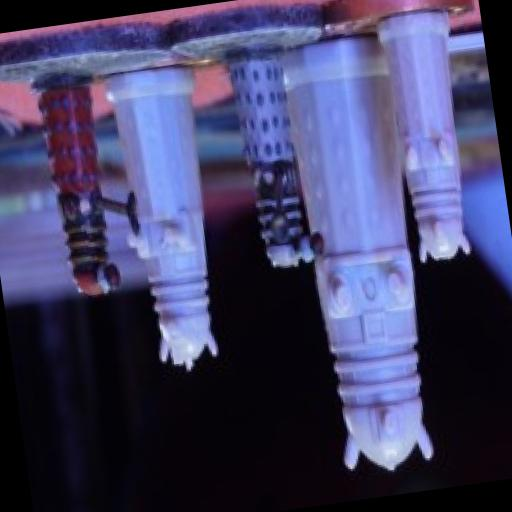dalek: (273, 40, 455, 483), (104, 60, 229, 373), (30, 64, 156, 304), (374, 10, 483, 268), (223, 38, 330, 276)
